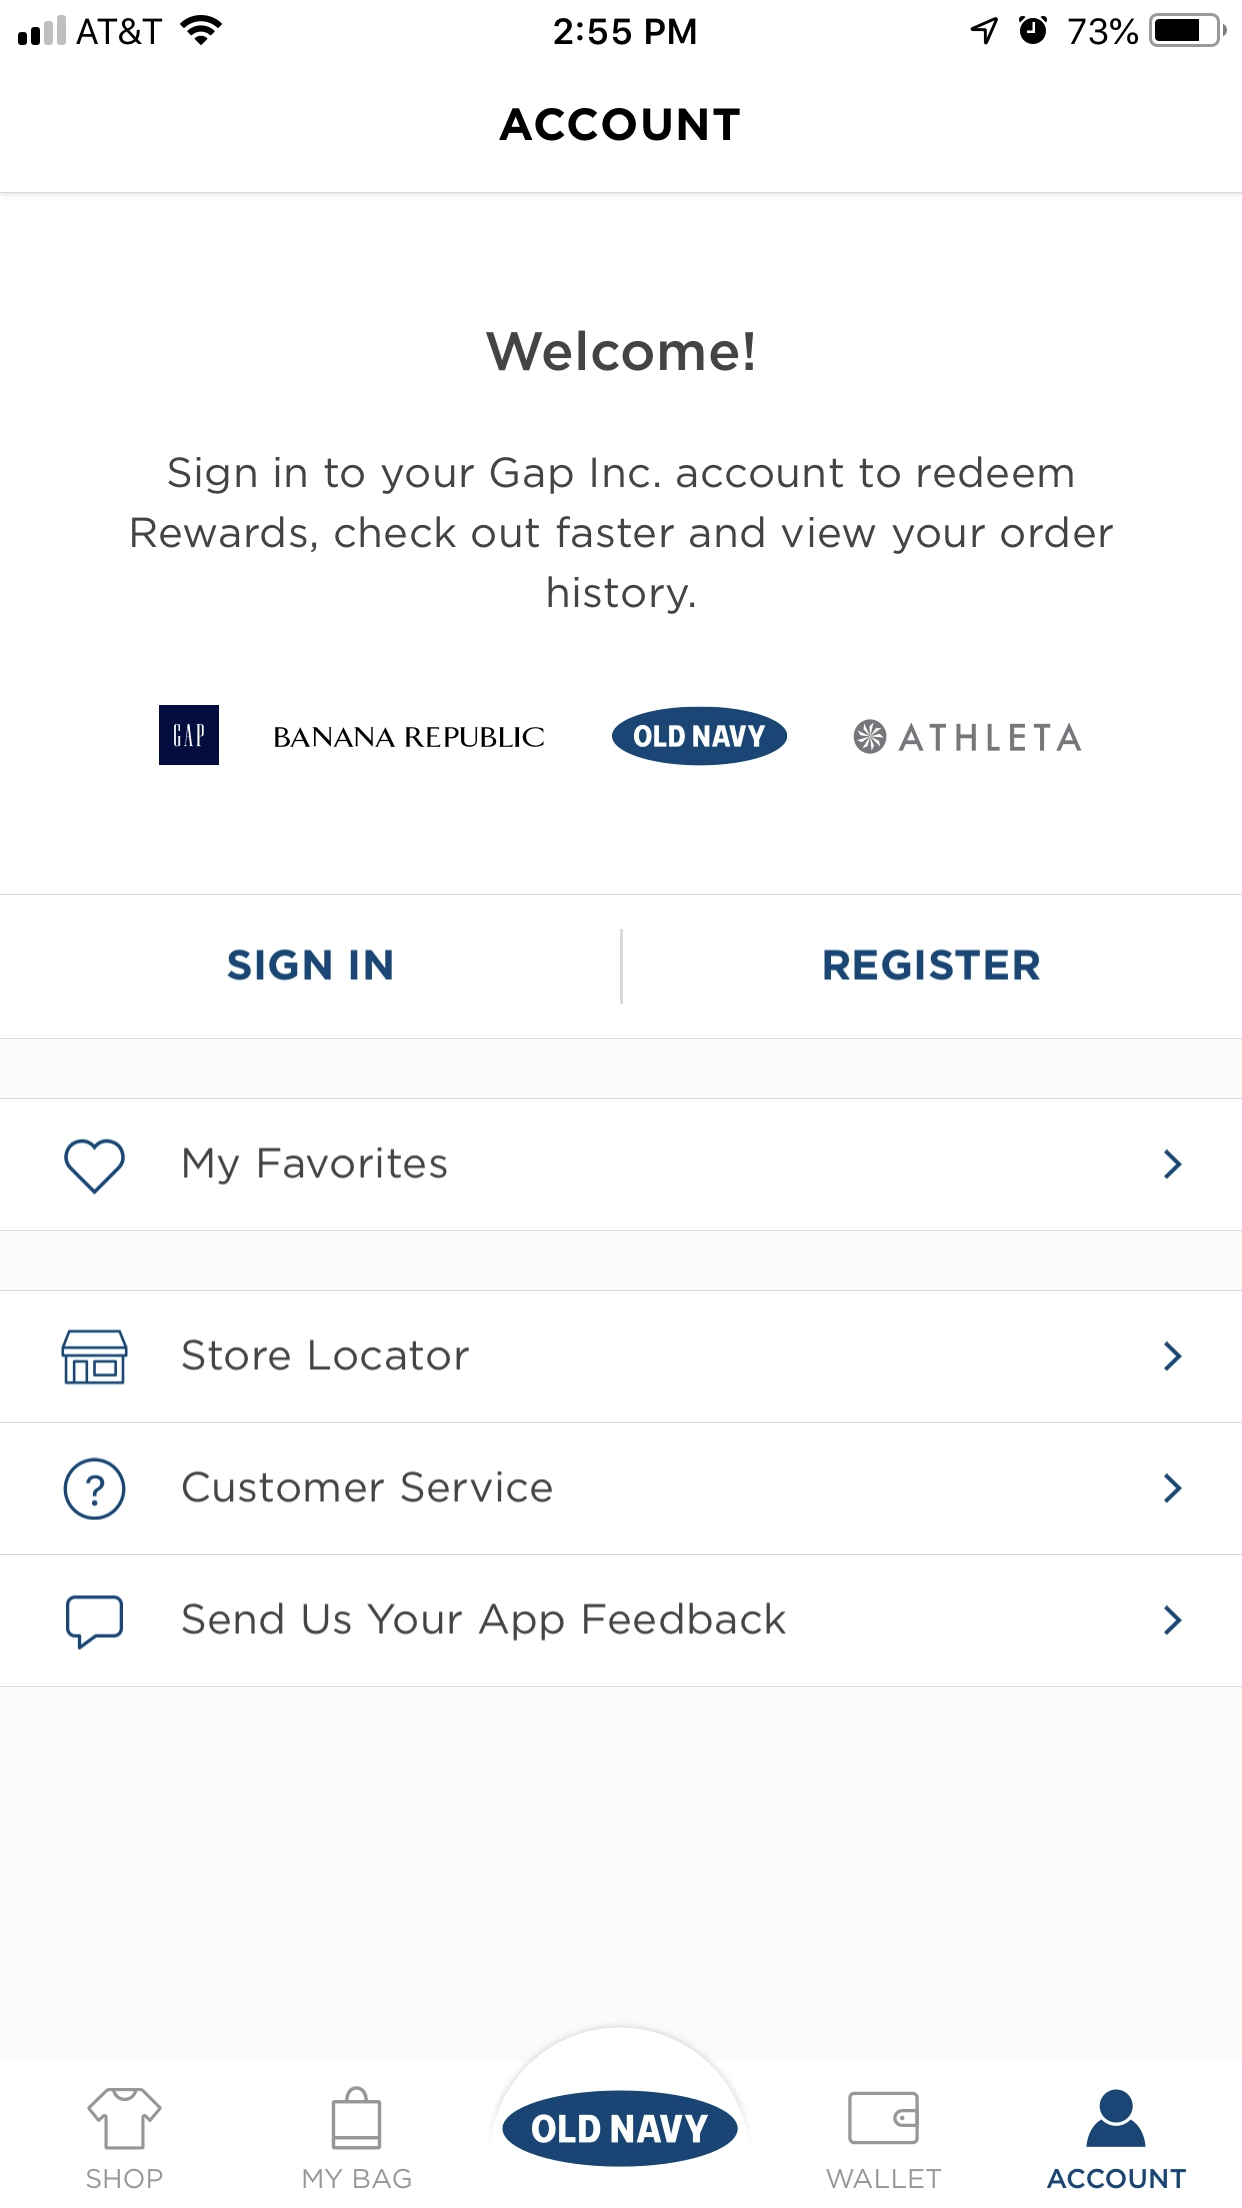Icon: (64, 1457, 127, 1521), (848, 2091, 921, 2144), (65, 1139, 127, 1197), (1086, 2090, 1146, 2147), (332, 2087, 384, 2150), (67, 1594, 124, 1650), (1163, 1604, 1181, 1636), (1165, 1473, 1183, 1504), (1163, 1149, 1181, 1180), (1165, 1341, 1181, 1371)
Image: (503, 2090, 739, 2167), (611, 707, 789, 767), (88, 2087, 164, 2150), (61, 1328, 130, 1386), (161, 705, 220, 766), (854, 720, 887, 755)
Text: (132, 456, 1115, 616), (182, 1601, 787, 1642), (183, 1469, 554, 1504), (485, 329, 754, 373), (183, 1146, 447, 1186), (183, 1339, 472, 1372), (499, 108, 742, 143), (823, 949, 1040, 983), (274, 726, 546, 749), (229, 949, 394, 983), (898, 723, 1081, 752), (1046, 2169, 1186, 2190), (826, 2169, 942, 2188), (303, 2169, 412, 2188), (86, 2169, 164, 2188)
UpperTaskBar: (2, 2, 1242, 49)
